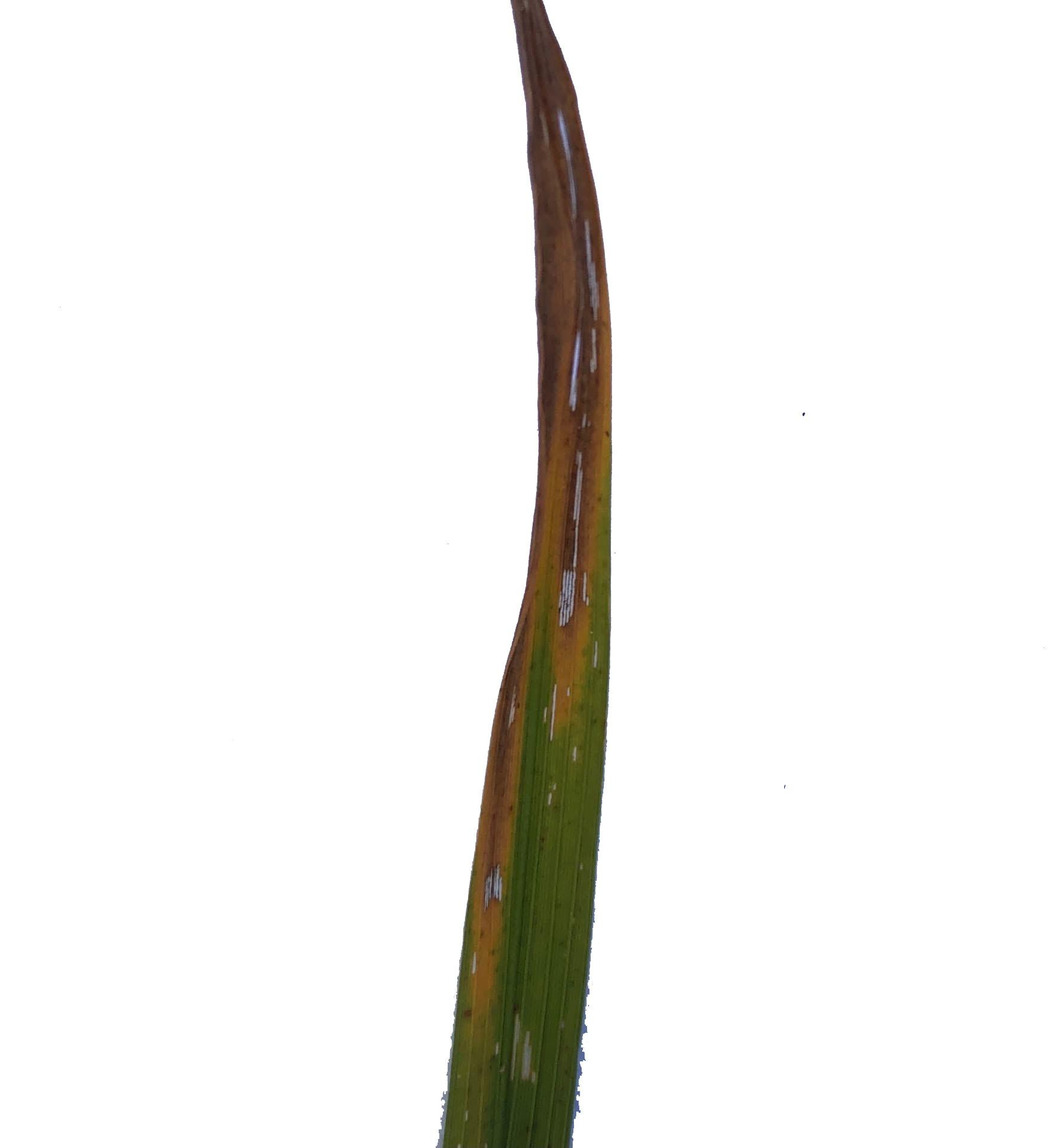Blight: (553, 562, 592, 673), (508, 1013, 562, 1091), (484, 846, 520, 930)
Rice blast: (523, 24, 613, 493)
